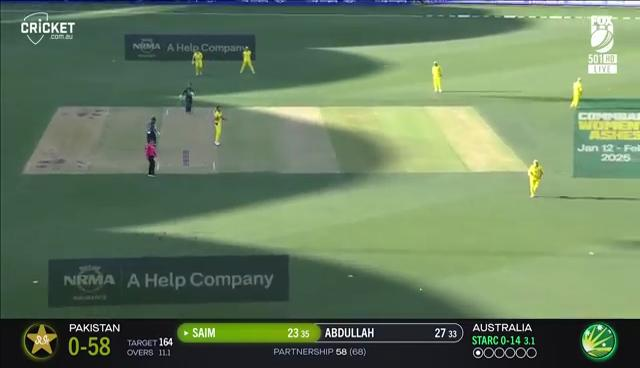ball: (417, 287, 425, 294)
